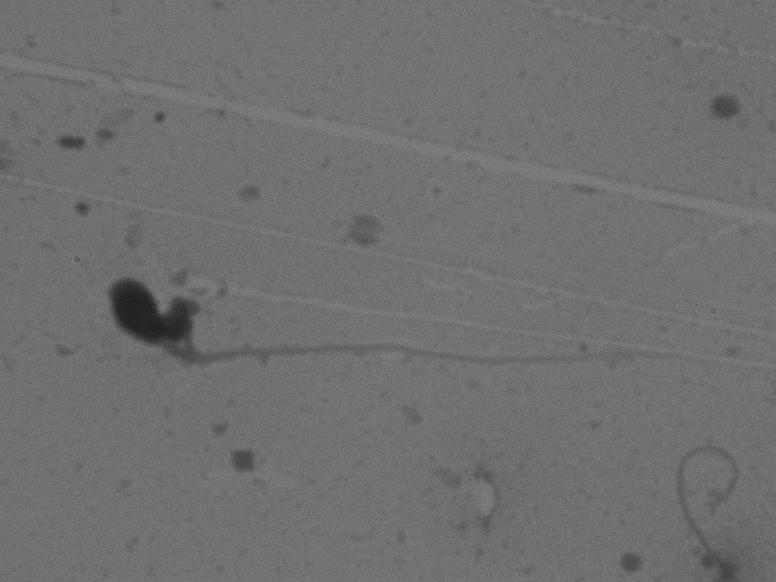Abnormal: (69, 242, 722, 412)
